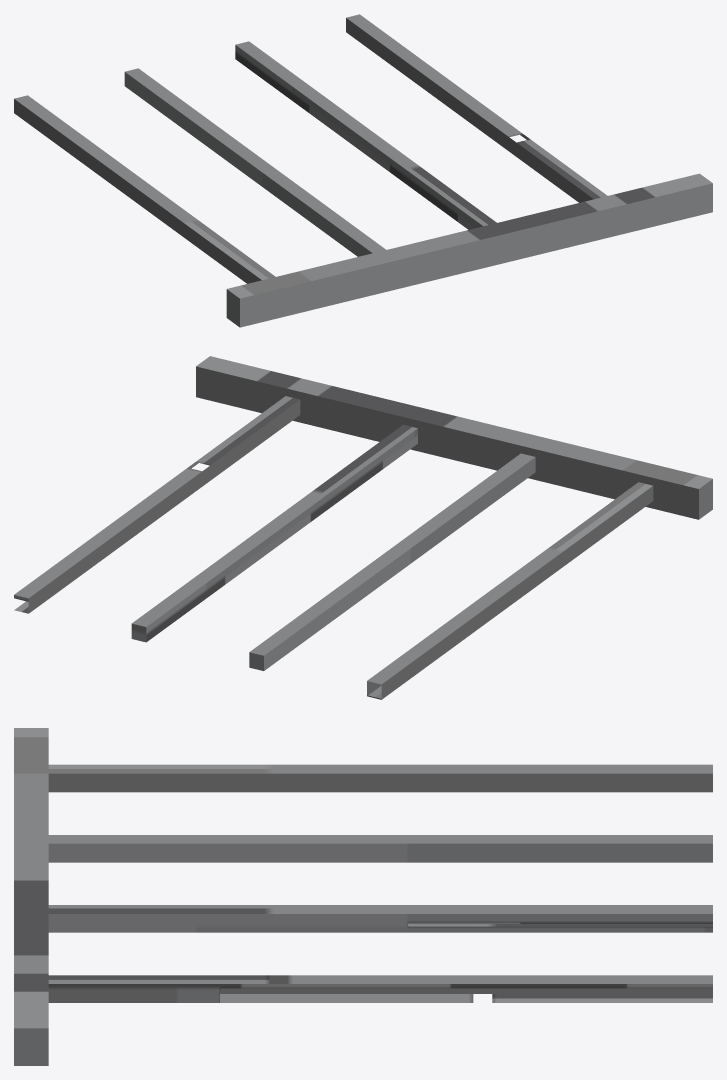
3 renders of one model, top to bottom at view 1: azimuth 30°, elevation 25°; view 2: azimuth 150°, elevation 25°; view 3: azimuth 270°, elevation 25°, orthographic. The views are drawn at different scales.
Size of the model in its own units: 1.03 by 0.06 by 1.01.
